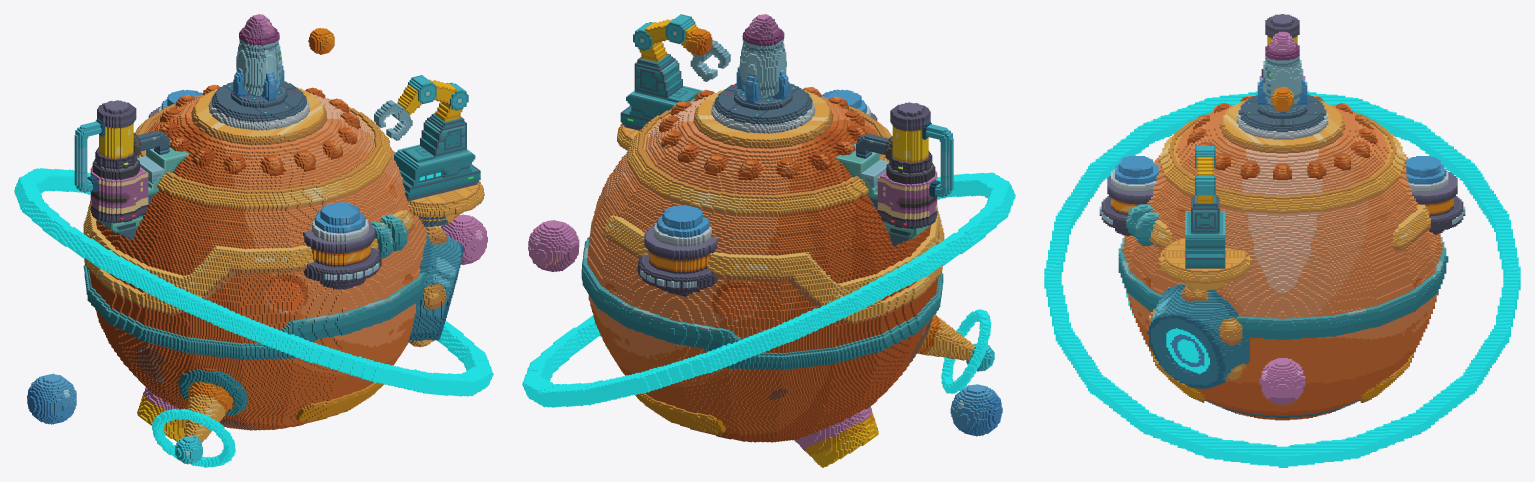
File: planet_01.glb
3 views of the same model, side by side, from view 1: azimuth 30°, elevation 25°; view 2: azimuth 150°, elevation 25°; view 3: azimuth 270°, elevation 25° (orthographic). The views are drawn at different scales.
Visible parts, largest first — view 1: mass星球-火箭, mass星球-火箭发光体; view 2: mass星球-火箭, mass星球-火箭发光体; view 3: mass星球-火箭, mass星球-火箭发光体.
Boxes of the visible parts, x1,y1,x2,y2 form: mass星球-火箭: (27, 14, 487, 464); mass星球-火箭发光体: (14, 54, 493, 467); mass星球-火箭: (528, 14, 1002, 467); mass星球-火箭发光体: (522, 86, 1015, 407); mass星球-火箭: (1099, 14, 1465, 420); mass星球-火箭发光体: (1044, 73, 1520, 467).
Bounding box in the file's own units: 25.6 × 22.3 × 25.
Materials: 2 (2 with a texture image).
